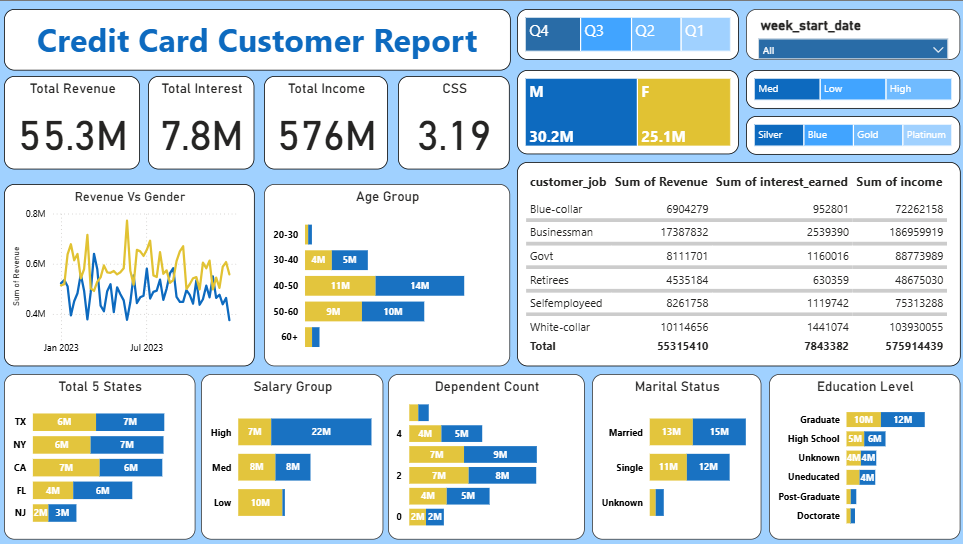

Layout of this report page (visuals, bound fields, positions):
{"tool":"powerbi","page":{"name":"Credit Card Financial Customer Data Analysis- Dashboard","canvas":[1280,720],"ordinal":0},"visuals":[{"type":"textbox","box":[10.1,10.1,666.5,81],"z":0},{"type":"barChart","title":"Salary Group","fields":{"Category":["public cust_detail.IncomeGroup"],"Y":["Sum(public cc_detail.Revenue)"],"Series":["public cust_detail.gender"]},"box":[270.4,491.6,240,218.3],"z":1000},{"type":"card","title":"Total Revenue","fields":{"Values":["Sum(public cc_detail.Revenue)"]},"box":[10.1,98.3,179.3,122.9],"z":2000},{"type":"card","title":"Total Income","fields":{"Values":["Sum(public cust_detail.income)"]},"box":[352.8,98.3,163.4,122.9],"z":3000},{"type":"card","title":"Total Interest","fields":{"Values":["Sum(public cc_detail.interest_earned)"]},"box":[199.5,98.3,140.2,122.9],"z":4000},{"type":"card","title":"CSS","fields":{"Values":["Avg(public cust_detail.cust_satisfaction_score)"]},"box":[529.2,98.3,147.5,122.9],"z":5000},{"type":"slicer","fields":{"Values":["public cc_detail.week_start_date"]},"box":[987.5,10.1,281.9,66.5],"z":6000},{"type":"treemap","fields":{"Group":["public cc_detail.qtr"],"Values":["Avg(public cc_detail.client_num)"]},"box":[686,9.9,292,66.6],"z":7000},{"type":"treemap","fields":{"Group":["public cust_detail.gender"],"Values":["Sum(public cc_detail.Revenue)"]},"box":[685.3,91.1,292,111.3],"z":8000},{"type":"treemap","fields":{"Group":["public cc_detail.card_category"],"Values":["Avg(public cc_detail.client_num)"]},"box":[987.5,151.8,281.9,50.6],"z":9000},{"type":"treemap","fields":{"Group":["public cust_detail.IncomeGroup"],"Values":["Avg(public cc_detail.client_num)"]},"box":[987.5,91.1,281.9,50.6],"z":10000},{"type":"tableEx","fields":{"Values":["public cust_detail.customer_job","Sum(public cc_detail.Revenue)","Sum(public cc_detail.interest_earned)","Sum(public cust_detail.income)"]},"box":[685.3,212.5,584.1,268.9],"z":11000},{"type":"barChart","title":"Age Group","fields":{"Category":["public cust_detail.AgeGroup"],"Y":["Sum(public cc_detail.Revenue)"],"Series":["public cust_detail.gender"]},"box":[352.8,241.4,323.9,240],"z":11001},{"type":"barChart","title":"Dependent Count","fields":{"Category":["public cust_detail.dependent_count"],"Y":["Sum(public cc_detail.Revenue)"],"Series":["public cust_detail.gender"]},"box":[516.1,491.6,258.8,218.3],"z":11002},{"type":"barChart","title":"Education Level","fields":{"Category":["public cust_detail.education_level"],"Y":["Sum(public cc_detail.Revenue)"],"Series":["public cust_detail.gender"]},"box":[1017.8,491.6,251.6,218.3],"z":11003},{"type":"barChart","title":"Total 5 States","fields":{"Y":["Sum(public cc_detail.Revenue)"],"Category":["public cust_detail.state_cd"],"Series":["public cust_detail.gender"]},"box":[10.1,491.6,251.6,218.3],"z":11004},{"type":"lineChart","title":"Revenue Vs Gender","fields":{"Y":["Sum(public cc_detail.Revenue)"],"Series":["public cust_detail.gender"],"Category":["public cc_detail.week_start_date.Variation.Date Hierarchy.Year","public cc_detail.week_start_date.Variation.Date Hierarchy.Month","public cc_detail.week_start_date.Variation.Date Hierarchy.Day"]},"box":[10.1,241.4,329.6,240],"z":11005},{"type":"barChart","title":"Marital Status","fields":{"Category":["public cust_detail.marital_status"],"Y":["Sum(public cc_detail.Revenue)"],"Series":["public cust_detail.gender"]},"box":[785.1,491.6,222.7,218.3],"z":11006}]}

Visuals, with their boxes in screenshot pixels (x1, y1, x2, y2), scaled from the page's 1280x720 canvas onto the 963x544 screenshot:
textbox: (left=8, top=8, right=509, bottom=69)
"Salary Group" barChart: (left=203, top=371, right=384, bottom=536)
"Total Revenue" card: (left=8, top=74, right=142, bottom=167)
"Total Income" card: (left=265, top=74, right=388, bottom=167)
"Total Interest" card: (left=150, top=74, right=256, bottom=167)
"CSS" card: (left=398, top=74, right=509, bottom=167)
slicer - public cc_detail.week_start_date: (left=743, top=8, right=955, bottom=58)
treemap - public cc_detail.qtr x Avg(public cc_detail.client_num): (left=516, top=7, right=736, bottom=58)
treemap - public cust_detail.gender x Sum(public cc_detail.Revenue): (left=516, top=69, right=735, bottom=153)
treemap - public cc_detail.card_category x Avg(public cc_detail.client_num): (left=743, top=115, right=955, bottom=153)
treemap - public cust_detail.IncomeGroup x Avg(public cc_detail.client_num): (left=743, top=69, right=955, bottom=107)
tableEx - public cust_detail.customer_job x Sum(public cc_detail.Revenue): (left=516, top=161, right=955, bottom=364)
"Age Group" barChart: (left=265, top=182, right=509, bottom=364)
"Dependent Count" barChart: (left=388, top=371, right=583, bottom=536)
"Education Level" barChart: (left=766, top=371, right=955, bottom=536)
"Total 5 States" barChart: (left=8, top=371, right=197, bottom=536)
"Revenue Vs Gender" lineChart: (left=8, top=182, right=256, bottom=364)
"Marital Status" barChart: (left=591, top=371, right=758, bottom=536)
